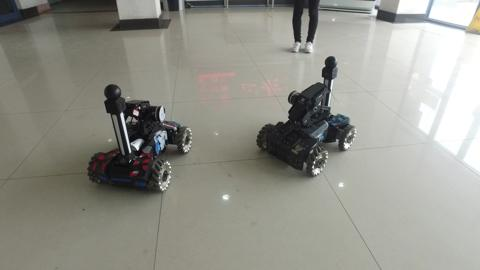chariot: (86, 78, 196, 199), (256, 54, 360, 180)
